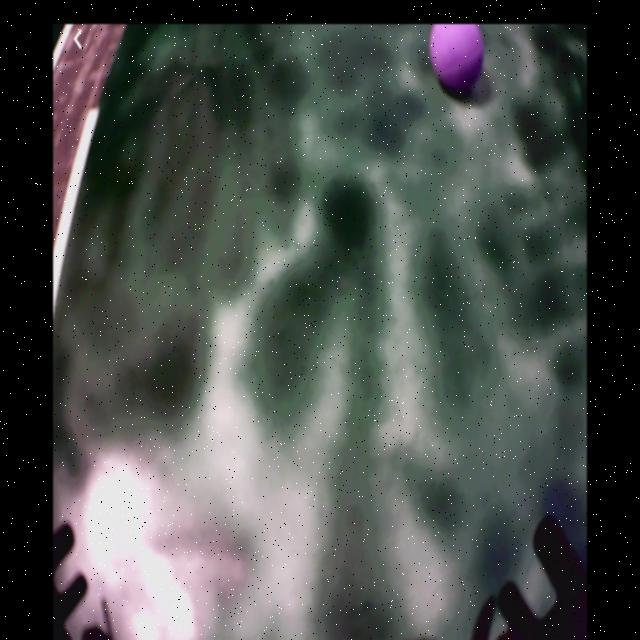ball: (431, 25, 484, 93)
